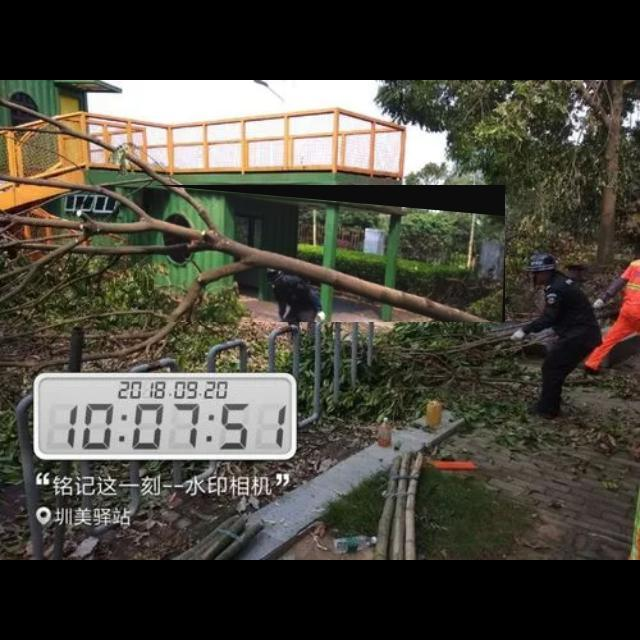fallen_tree: (154, 185, 506, 323)
